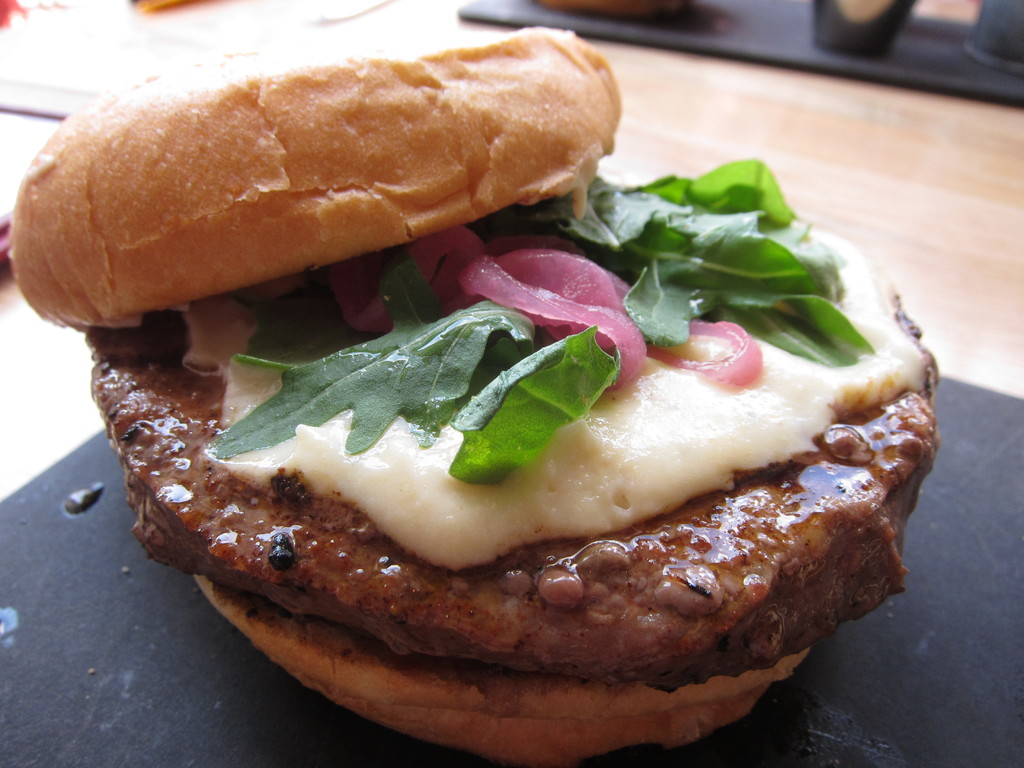Hamburger: (8, 26, 937, 767)
